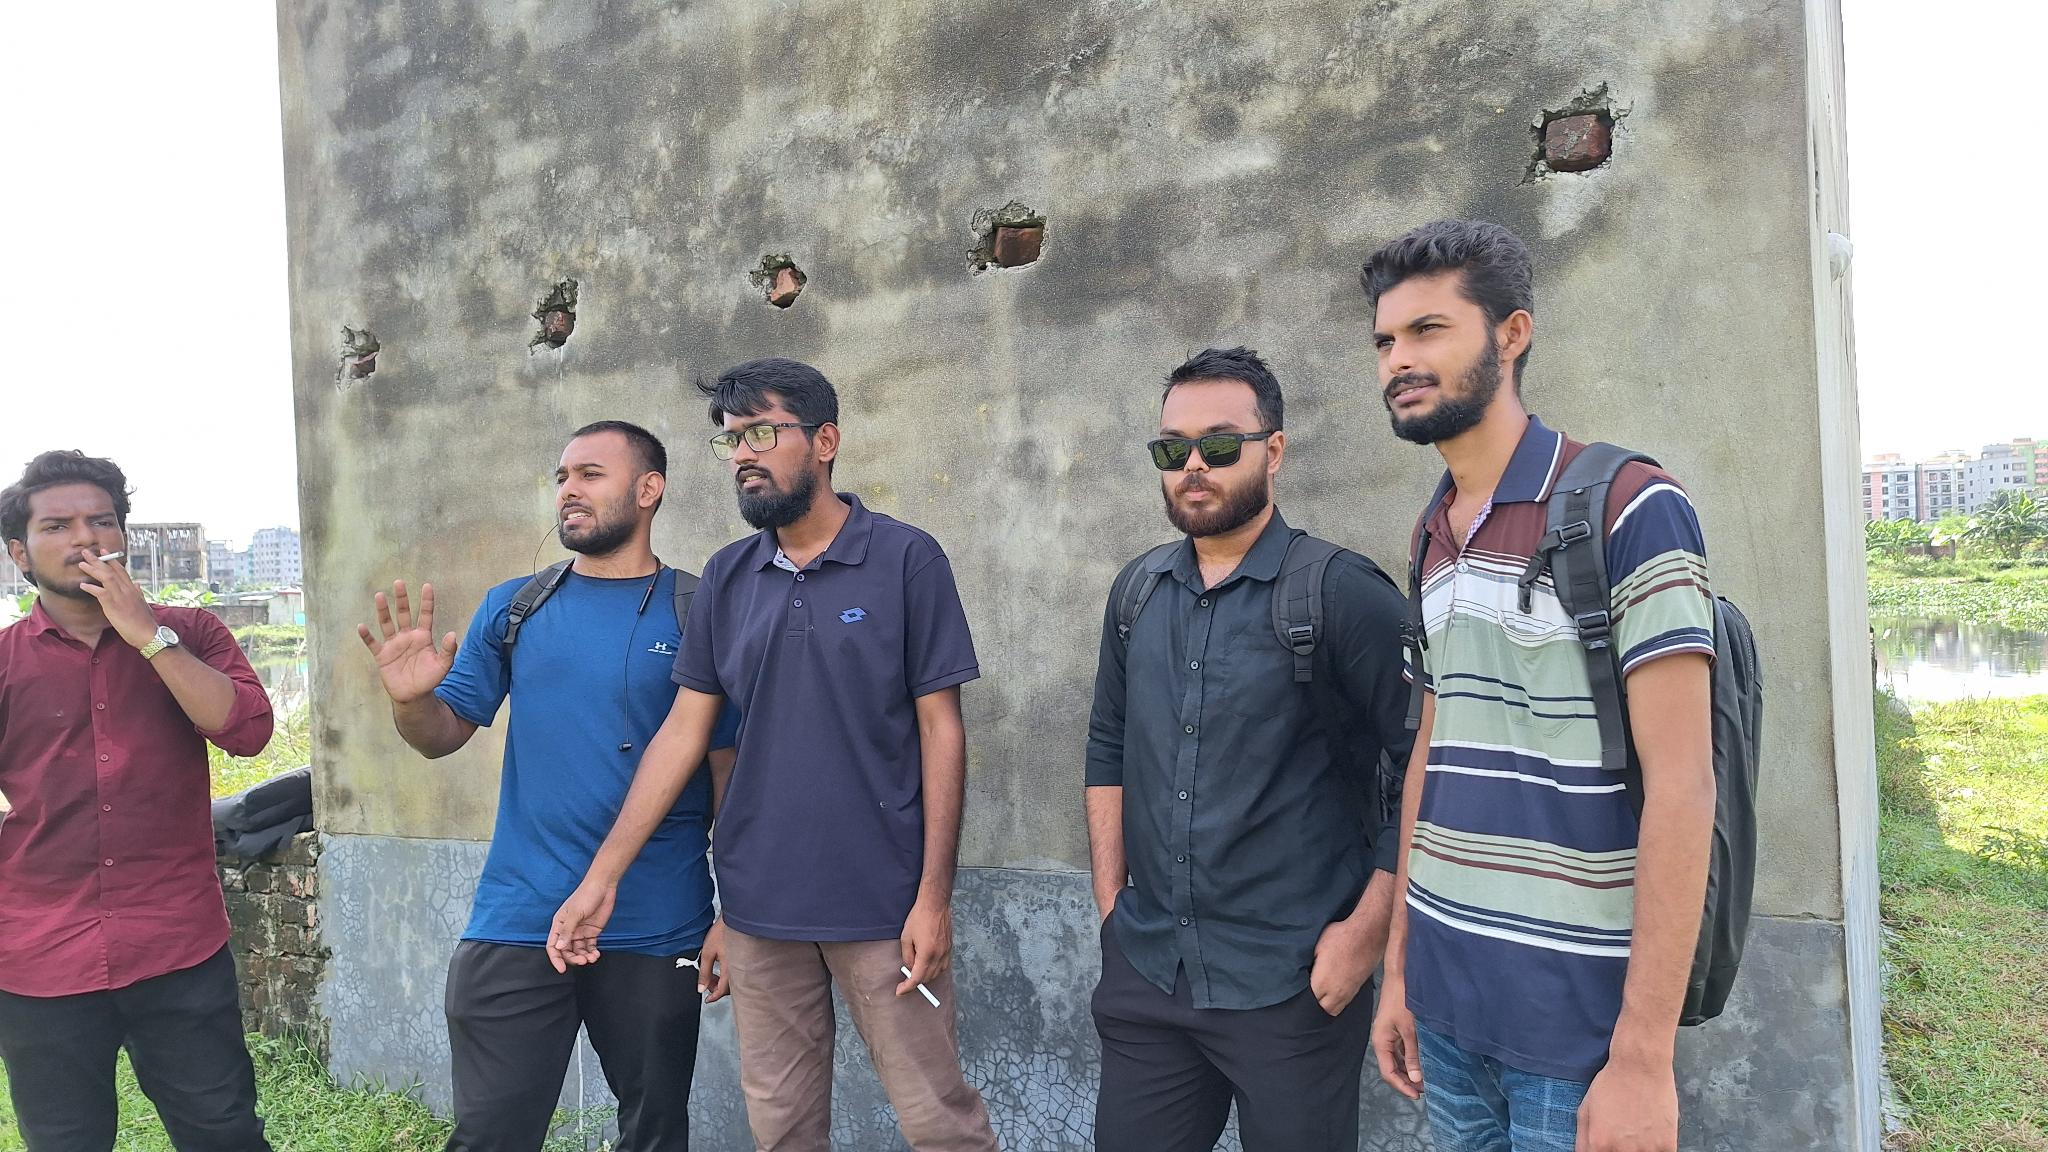cigarette: (899, 964, 941, 1010), (94, 547, 125, 565)
nonSmoker: (1360, 217, 1761, 1152), (352, 416, 726, 1152), (1084, 350, 1408, 1152)
smoker: (546, 360, 1003, 1152), (0, 450, 279, 1152)
